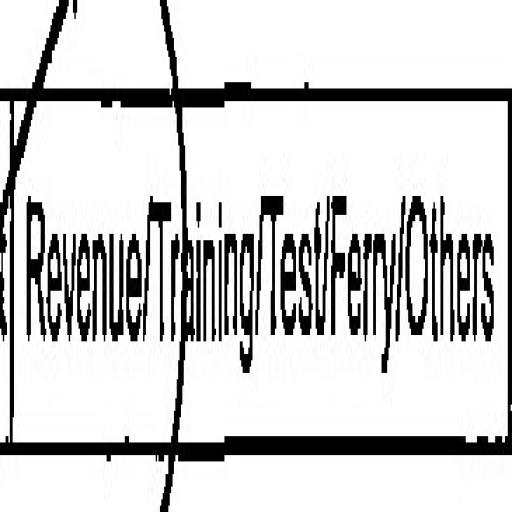check: (0, 0, 154, 512)
